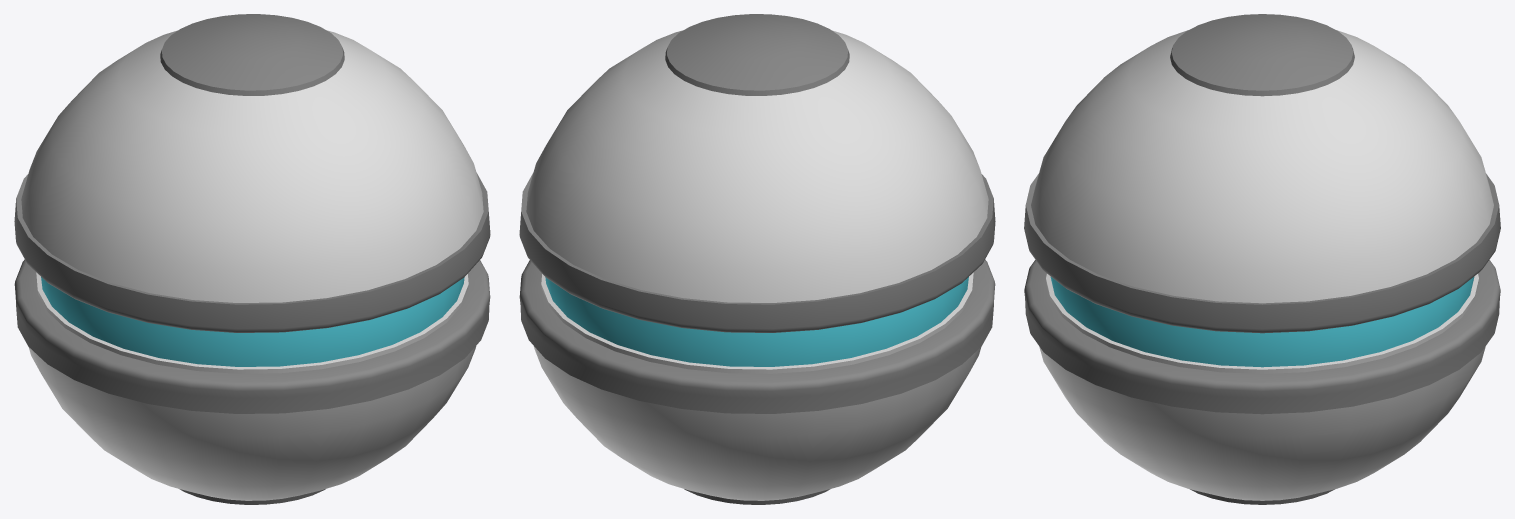
Rendered from Ball.fbx.
3 views of the same model, side by side, from view 1: azimuth 30°, elevation 25°; view 2: azimuth 150°, elevation 25°; view 3: azimuth 270°, elevation 25° (orthographic).
Visible parts, largest first — view 1: Sphere; view 2: Sphere; view 3: Sphere.
Boxes of the visible parts, x1,y1,x2,y2 form: Sphere: (14,14,490,504); Sphere: (519,14,995,504); Sphere: (1024,14,1500,504).
Size of the model in its own units: 197 by 204 by 197.
